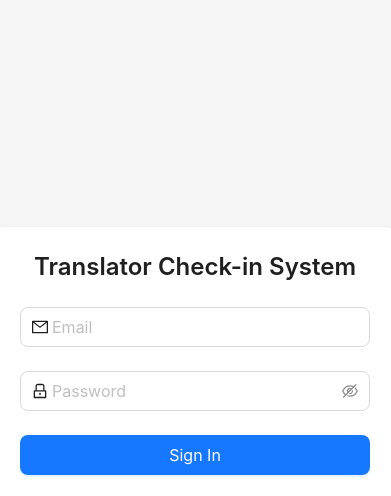
Test: LoginPage › shows translated error toast on failed login
Type "a@a.com" into the field with placeholder "Email" at (205, 327), box [52, 315, 358, 339]
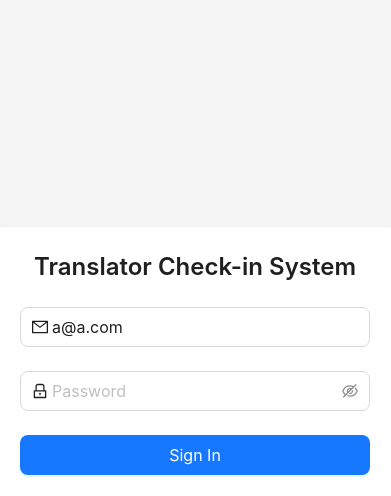
Type "wrong" into the password field with placeholder "Password" at (195, 391), box [52, 379, 338, 403]
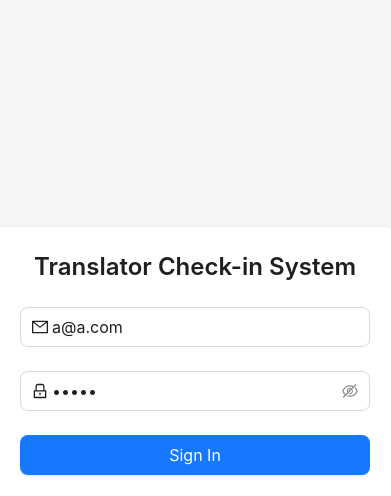
Click the button "Sign In" at (195, 455), box [20, 435, 370, 475]
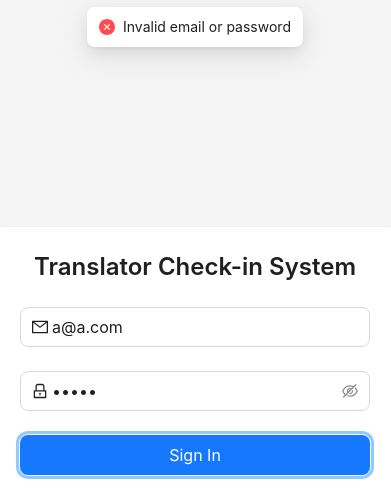
expect the text "Invalid email or password" is shown: met, box [123, 16, 291, 38]
